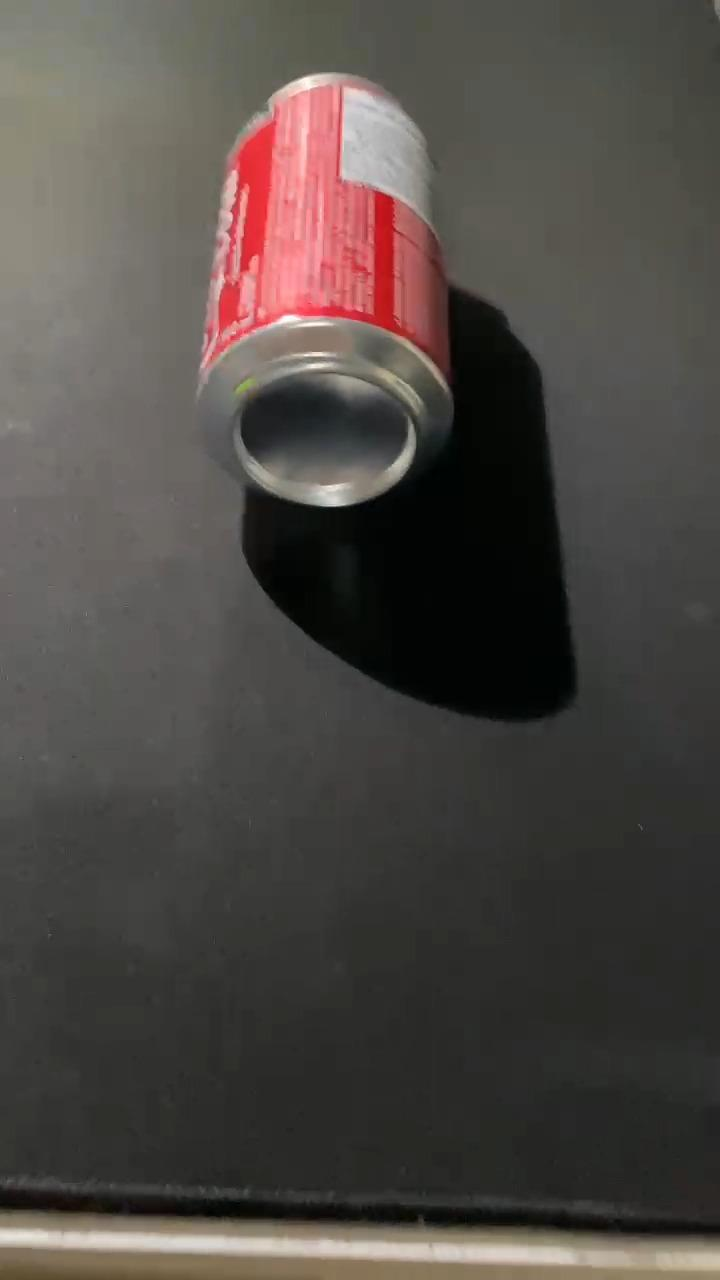coke: (193, 70, 457, 505)
